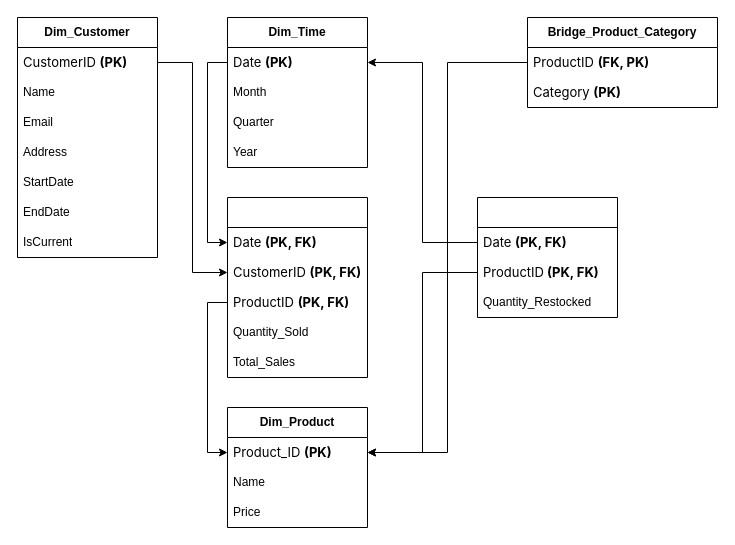
Image size: 735x545. Some labels were removed from this diagram. The shapes that lost their labels are listed below. From the top down, each one's box as (x1, y1, x2, y2) in pixels, then its label:
(476, 196, 618, 318): Fact_Restocking
(226, 196, 368, 378): Fact_Sales
